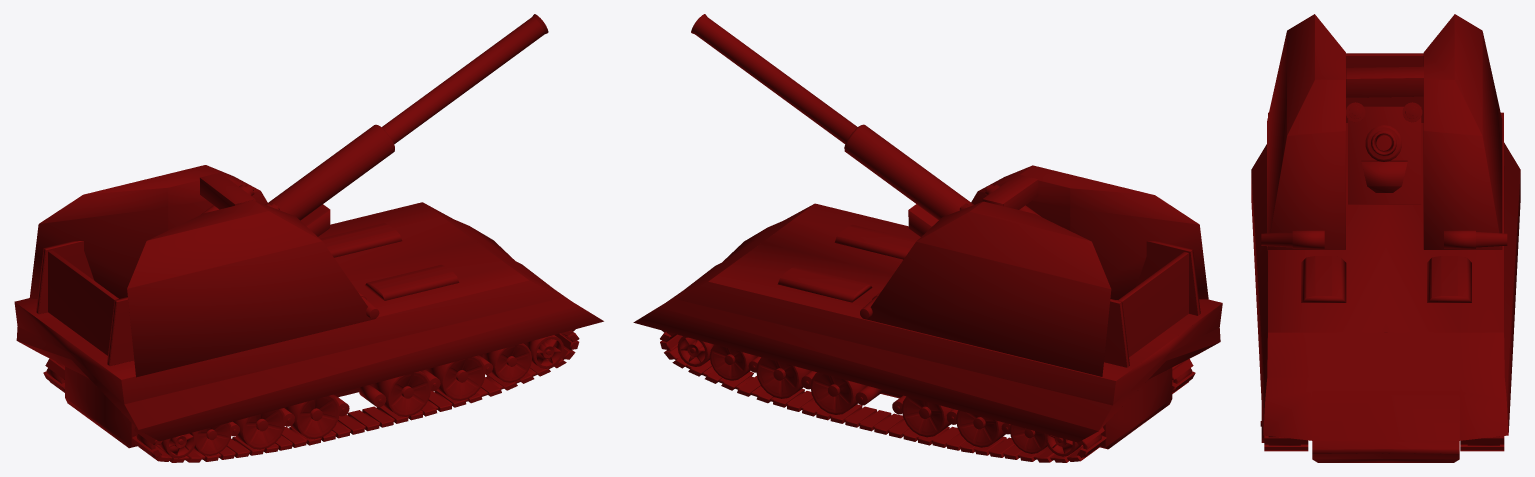
File: zazupo_1.fbx
The picture shows the model from 3 angles, left to right: view 1: azimuth 30°, elevation 25°; view 2: azimuth 150°, elevation 25°; view 3: azimuth 270°, elevation 25°; orthographic projection. The views are drawn at different scales.
Parts seen in each view (by area): view 1: Object032; view 2: Object032; view 3: Object032.
Part boxes in pixels (left/top/right/bottom): Object032: left=14, top=14, right=603, bottom=462; Object032: left=633, top=14, right=1222, bottom=462; Object032: left=1251, top=14, right=1520, bottom=462.
Bounding box in the file's own units: 11.6 × 7.32 × 5.02.
